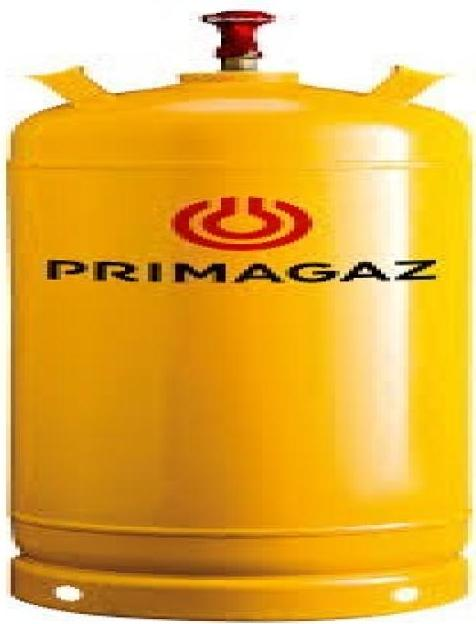cylinder: (1, 1, 476, 624)
